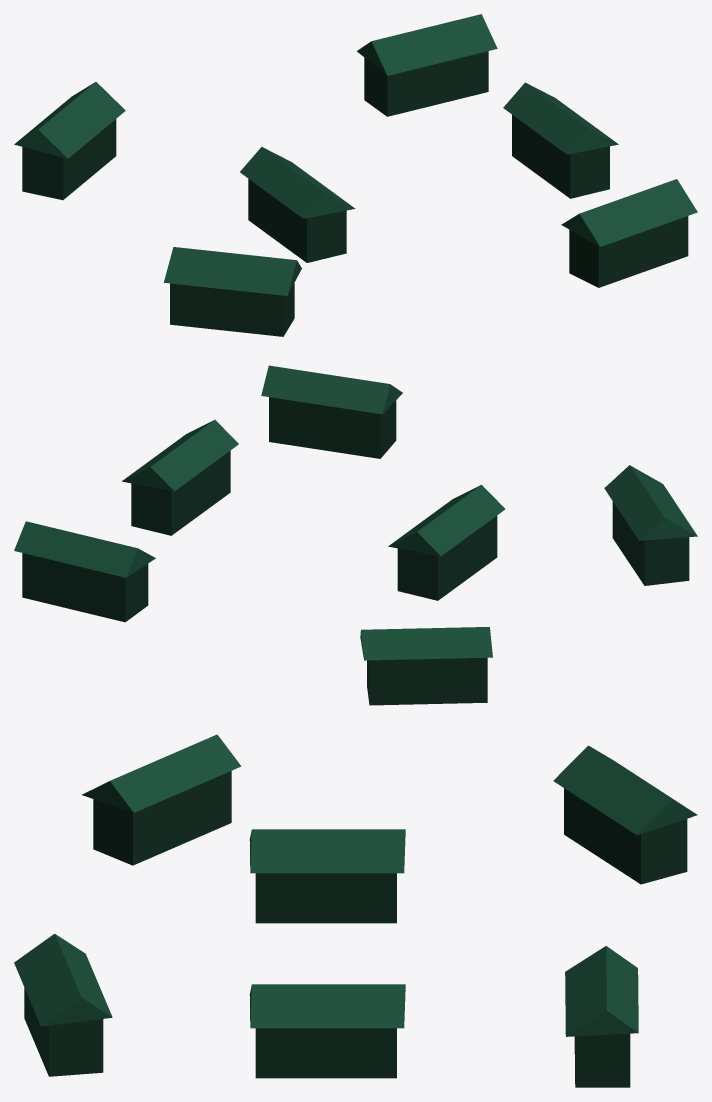
Rendered from Village.fbx.
3 renders of one model, top to bottom at view 1: azimuth 30°, elevation 25°; view 2: azimuth 150°, elevation 25°; view 3: azimuth 270°, elevation 25°, orthographic. The views are drawn at different scales.
Parts seen in each view (by area): view 1: Cube.006; view 2: Cube.006; view 3: Cube.006.
Part boxes in pixels (<box>): Cube.006: <box>14,14,697,336</box>; Cube.006: <box>14,365,697,705</box>; Cube.006: <box>14,734,697,1087</box>.
Bounding box in the file's own units: 453 × 60.95 × 453.
Materials: 1 (1 with a texture image).
